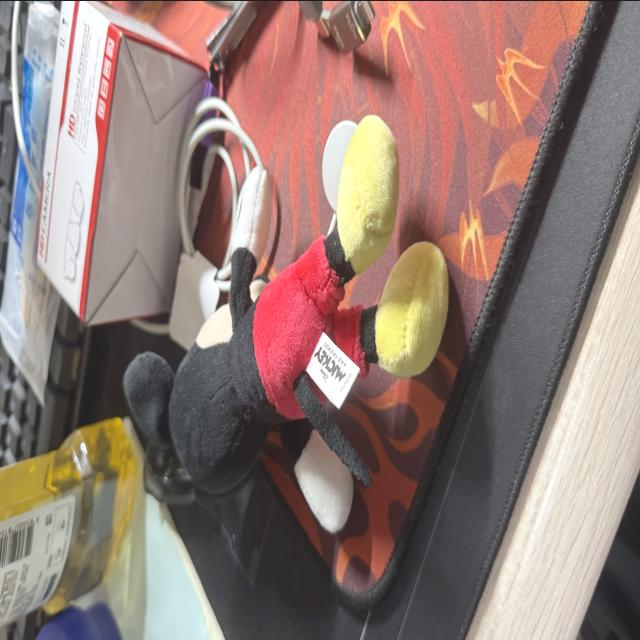mickey: (125, 115, 447, 491)
